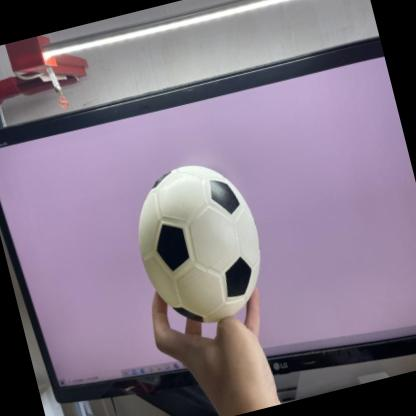ball: (119, 148, 280, 340)
